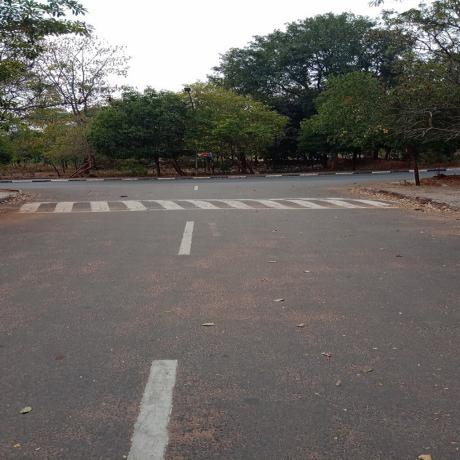Speed Bump: (18, 197, 410, 214)
